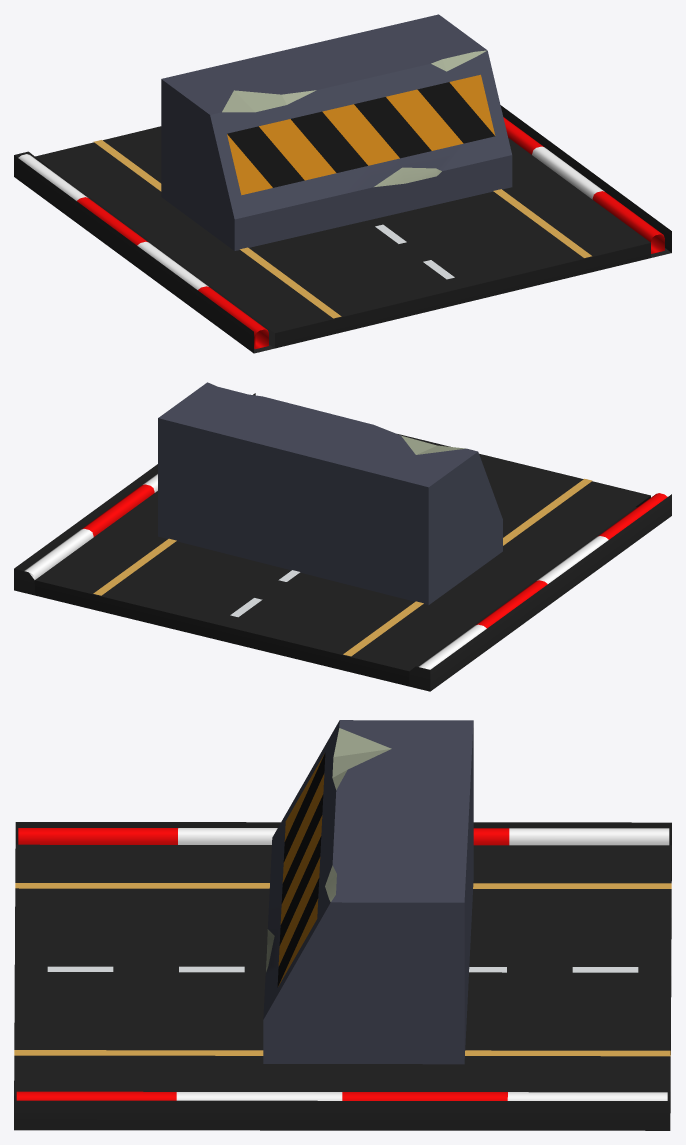
The model's file is Barrier.obj.
3 views of the same model, one above another, from view 1: azimuth 30°, elevation 25°; view 2: azimuth 150°, elevation 25°; view 3: azimuth 270°, elevation 25° (orthographic). The views are drawn at different scales.
Visible parts, largest first — view 1: G_G, Barrier; view 2: G_G, Barrier; view 3: G_G, Barrier.
Part boxes in pixels (x1,y1,x2,y2): G_G: (14, 105, 671, 353); Barrier: (161, 14, 512, 250); G_G: (14, 393, 671, 691); Barrier: (158, 382, 502, 604); G_G: (14, 822, 671, 1130); Barrier: (263, 720, 473, 1064).
Bounding box in the file's own units: 2.01 × 0.6281 × 2.
8 materials, 1 textured.
